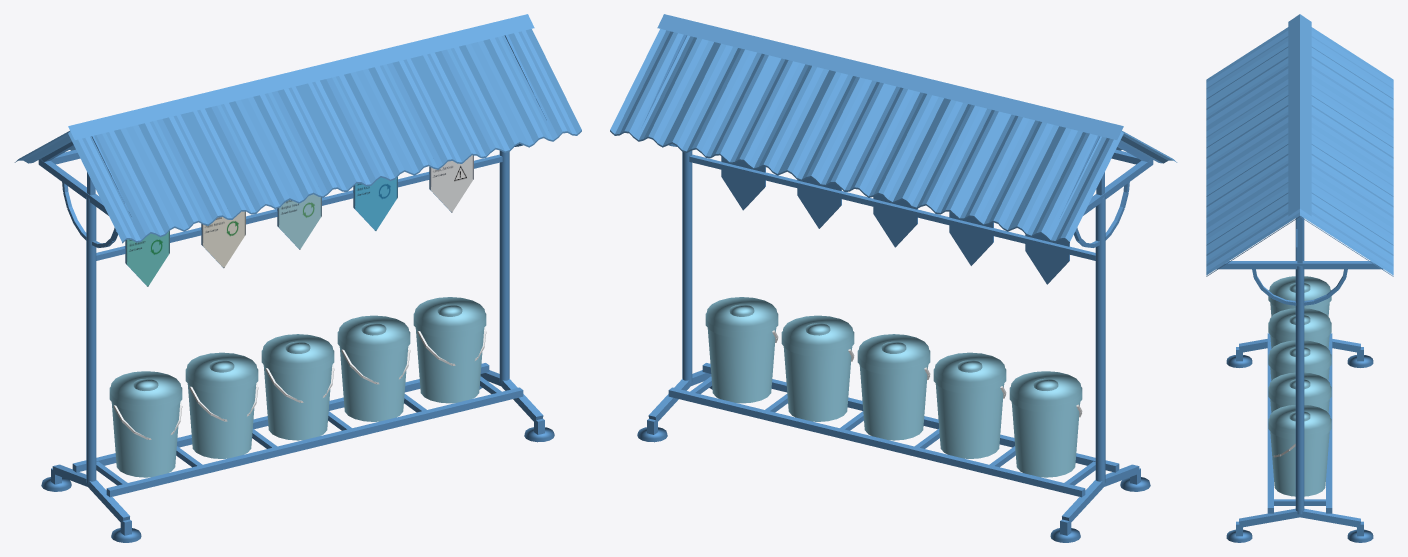
File: tong_sampah.glb
3 views of the same model, side by side, from view 1: azimuth 30°, elevation 25°; view 2: azimuth 150°, elevation 25°; view 3: azimuth 270°, elevation 25° (orthographic). The views are drawn at different scales.
Visible parts, largest first — view 1: Atap_Seng_Gelombang_Biru, Ember_Tong_Sampah_BiruMuda, Rangka_Besi_Biru_Kobalt, Plakat_Residu, Plakat_Reuse, Plakat_Organik, Plakat_Limbah, Plakat_Reduce, Pegangan_Ember_Putih; view 2: Atap_Seng_Gelombang_Biru, Ember_Tong_Sampah_BiruMuda, Rangka_Besi_Biru_Kobalt; view 3: Atap_Seng_Gelombang_Biru, Ember_Tong_Sampah_BiruMuda, Rangka_Besi_Biru_Kobalt.
Part boxes in pixels (bbox=[...]): Atap_Seng_Gelombang_Biru: bbox=[14, 14, 581, 243]; Ember_Tong_Sampah_BiruMuda: bbox=[109, 297, 486, 477]; Rangka_Besi_Biru_Kobalt: bbox=[38, 34, 554, 542]; Plakat_Residu: bbox=[278, 194, 321, 249]; Plakat_Reuse: bbox=[354, 177, 397, 230]; Plakat_Organik: bbox=[126, 231, 169, 286]; Plakat_Limbah: bbox=[430, 155, 473, 212]; Plakat_Reduce: bbox=[202, 211, 245, 267]; Pegangan_Ember_Putih: bbox=[113, 327, 486, 439]; Atap_Seng_Gelombang_Biru: bbox=[610, 14, 1177, 243]; Ember_Tong_Sampah_BiruMuda: bbox=[705, 297, 1082, 477]; Rangka_Besi_Biru_Kobalt: bbox=[637, 34, 1153, 542]; Atap_Seng_Gelombang_Biru: bbox=[1206, 14, 1393, 276]; Ember_Tong_Sampah_BiruMuda: bbox=[1268, 276, 1331, 496]; Rangka_Besi_Biru_Kobalt: bbox=[1216, 37, 1383, 542].
Size of the model in its own units: 2.36 by 1.91 by 0.96.
Materials: 9 (5 with a texture image).
